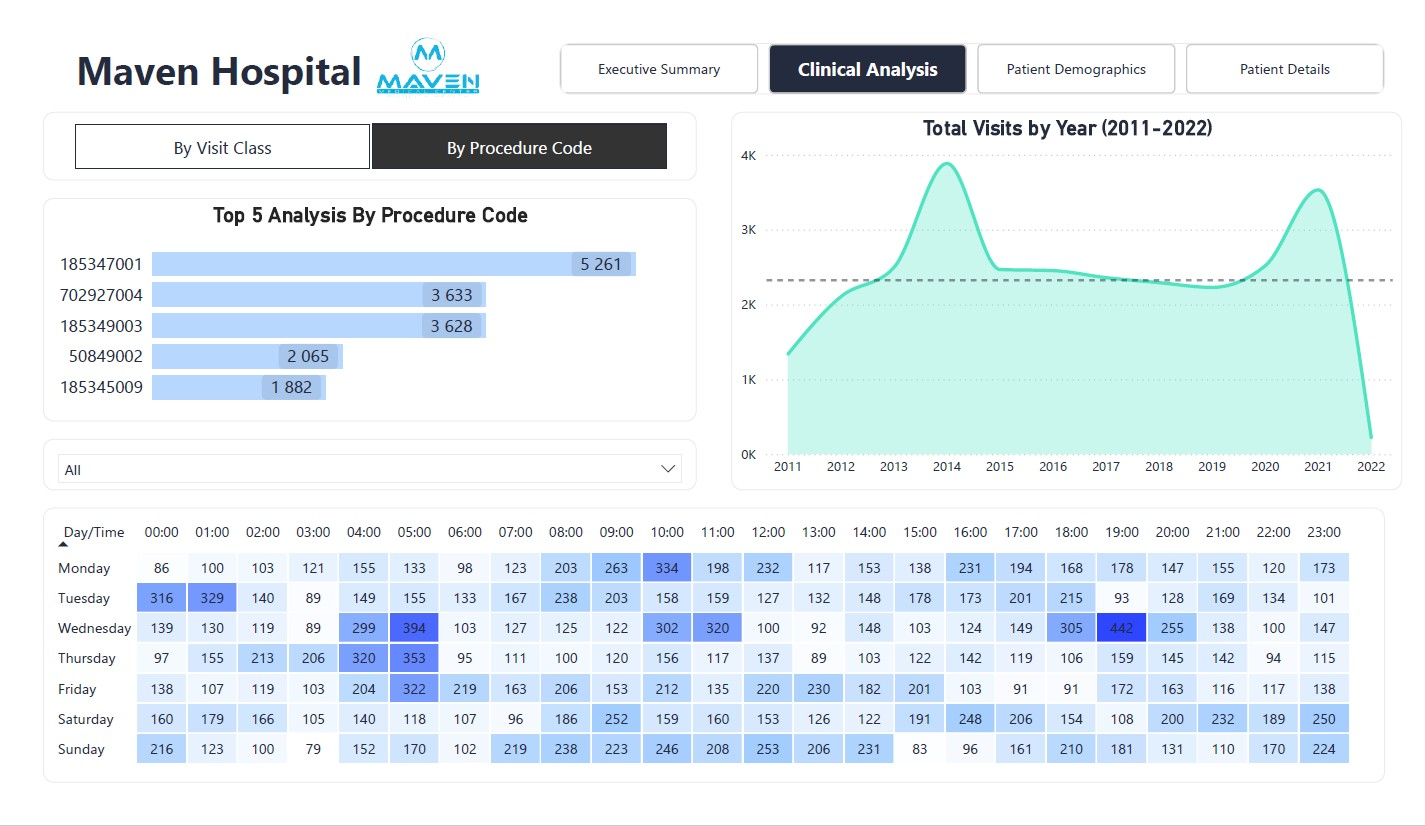

The dashboard page shown, as its layout file describes it:
{"tool":"powerbi","page":{"name":"Clinical Analysis","canvas":[1280,720],"ordinal":1},"visuals":[{"type":"pageNavigator","box":[496,16,768,48],"z":0},{"type":"textbox","title":"Maven Hospital","box":[47,16,272,48],"z":1000},{"type":"image","box":[326,0,96,80],"z":2000},{"type":"slicer","fields":{"Values":["ParameterClinicalAxis.ParameterClinicalAxis"]},"box":[16,80,608,64],"z":3000},{"type":"clusteredBarChart","fields":{"Category":["DimSNOMED.CODE"],"Y":["_measures.TotalVisits"]},"box":[16,160,608,208],"z":4000},{"type":"pivotTable","fields":{"Rows":["DimCalendarDAX.DayName"],"Columns":["DimTime.HourLabel"],"Values":["_measures.TotalVisits"]},"box":[16,448,1248,256],"z":5000},{"type":"slicer","fields":{"Values":["DimCalendarDAX.YearText","DimCalendarDAX.MonthName"]},"box":[16,384,608,48],"z":6000},{"type":"areaChart","fields":{"Y":["_measures.TotalVisits"],"Category":["DimCalendarDAX.Year","DimCalendarDAX.MonthName","DimCalendarDAX.Day"]},"box":[656,80,624,352],"z":7000}]}

Visuals, with their boxes in screenshot pixels (x1, y1, x2, y2), scaled from the page's 1280x720 canvas onto the 1425x826 screenshot:
pageNavigator: rect(552, 18, 1407, 73)
"Maven Hospital" textbox: rect(52, 18, 355, 73)
image: rect(363, 0, 470, 92)
slicer - ParameterClinicalAxis.ParameterClinicalAxis: rect(18, 92, 695, 165)
clusteredBarChart - DimSNOMED.CODE x _measures.TotalVisits: rect(18, 184, 695, 422)
pivotTable - DimCalendarDAX.DayName x DimTime.HourLabel: rect(18, 514, 1407, 808)
slicer - DimCalendarDAX.YearText x DimCalendarDAX.MonthName: rect(18, 441, 695, 496)
areaChart - _measures.TotalVisits x DimCalendarDAX.Year: rect(730, 92, 1424, 496)
